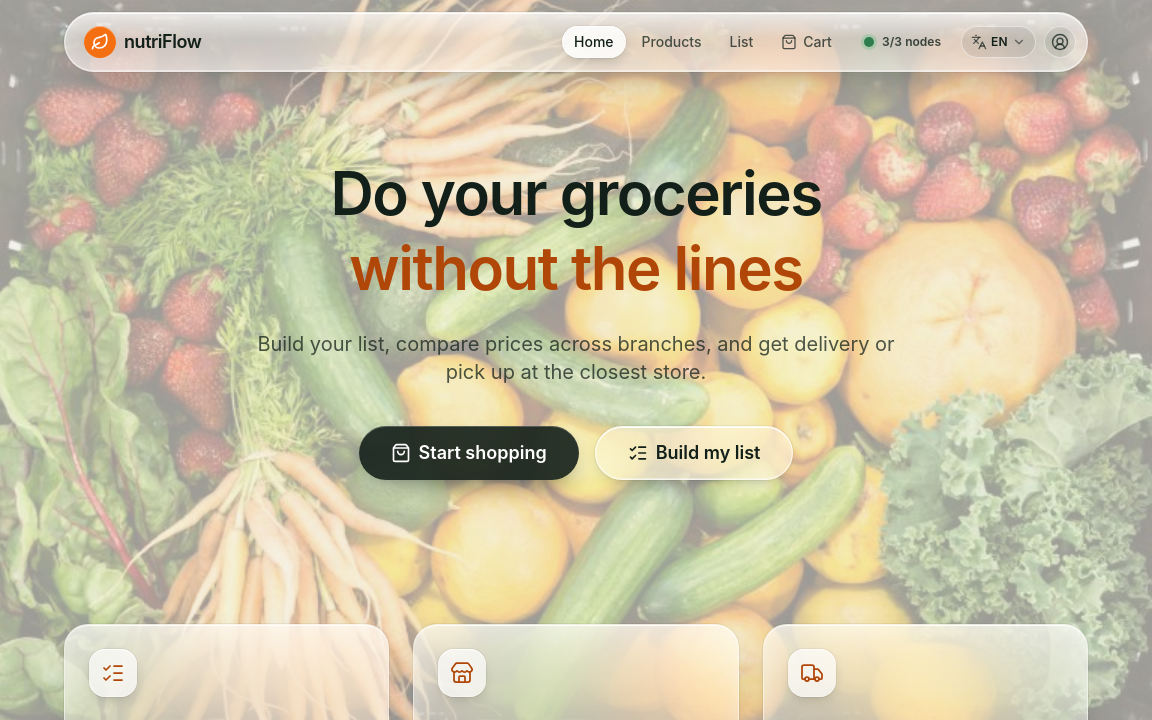
Test: Language picker › closes when clicking elsewhere
The width and height of the screenshot is (1152, 720).
Click the dropdown named "Language": (998, 42) top-left (961, 26), bottom-right (1036, 58)
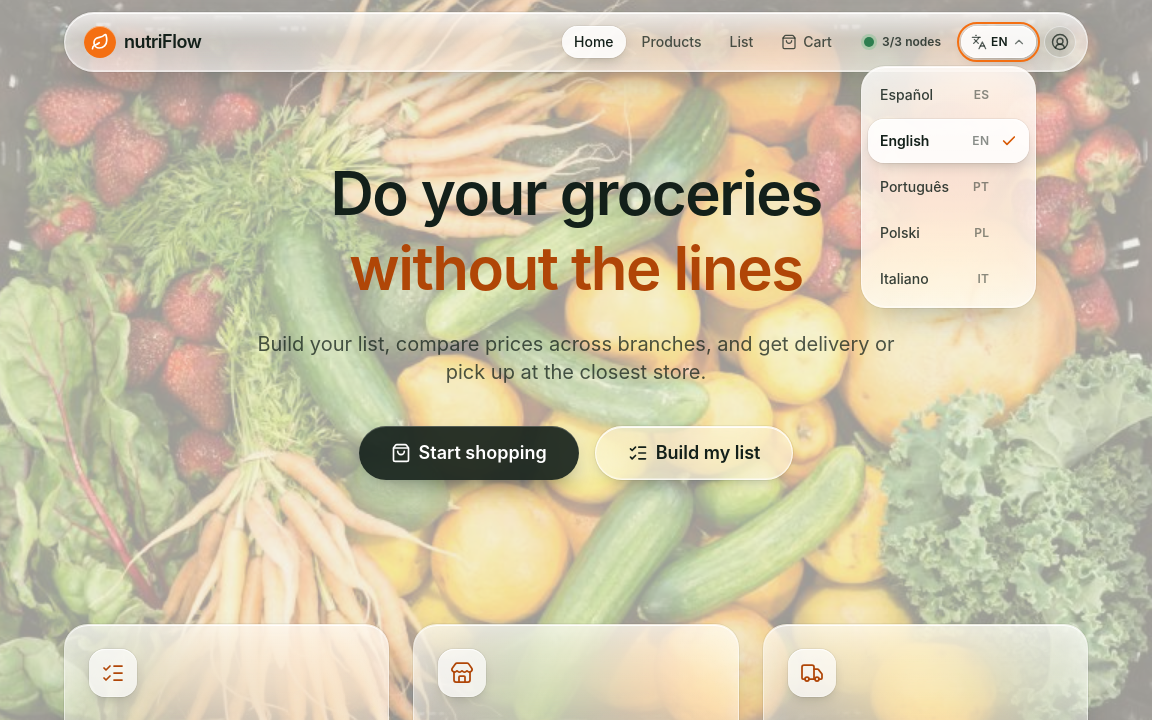
Result: the list named "Language" is shown at top-left (861, 66), bottom-right (1036, 308)
Click the heading "Do your groceries without the lines": (576, 230) top-left (330, 157), bottom-right (822, 304)
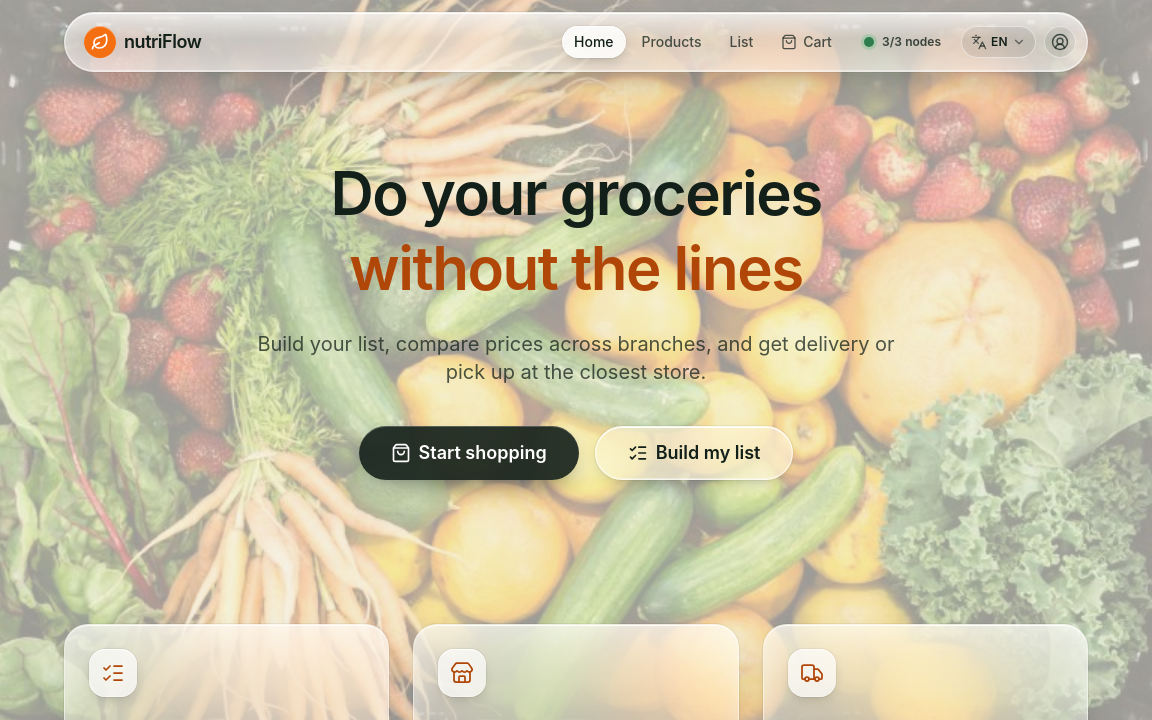
Result: the list "Español es English en Português pt Polski pl Italiano it" is gone
